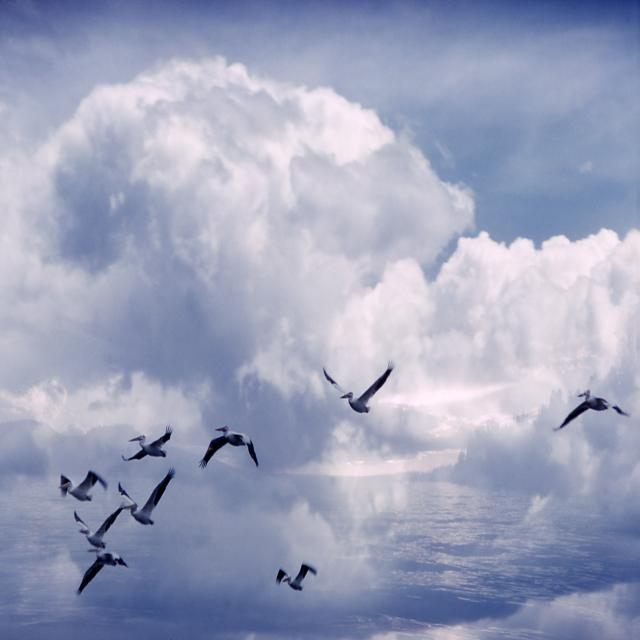bird: (321, 364, 397, 418), (115, 473, 175, 528), (558, 392, 633, 434), (65, 504, 128, 554), (76, 550, 132, 598), (200, 427, 260, 471), (126, 426, 175, 465), (271, 563, 318, 594), (58, 471, 102, 503)
